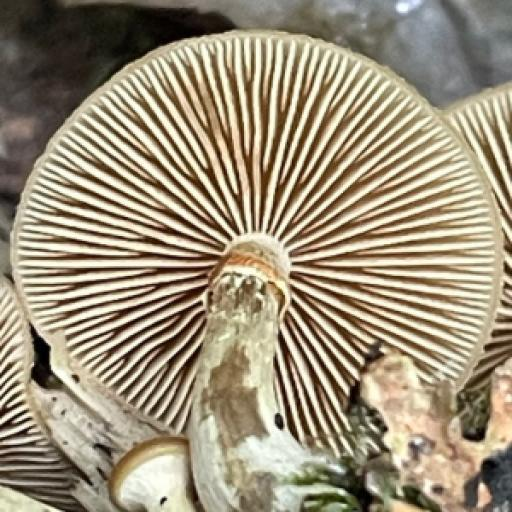mushroom: (8, 14, 509, 491)
